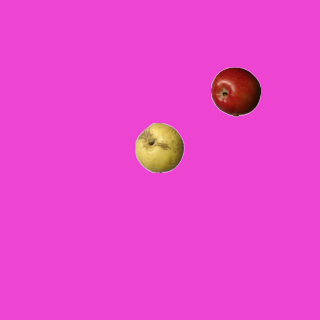Apple Braeburn: (210, 66, 260, 116)
Apple Golden 1: (134, 122, 184, 172)
